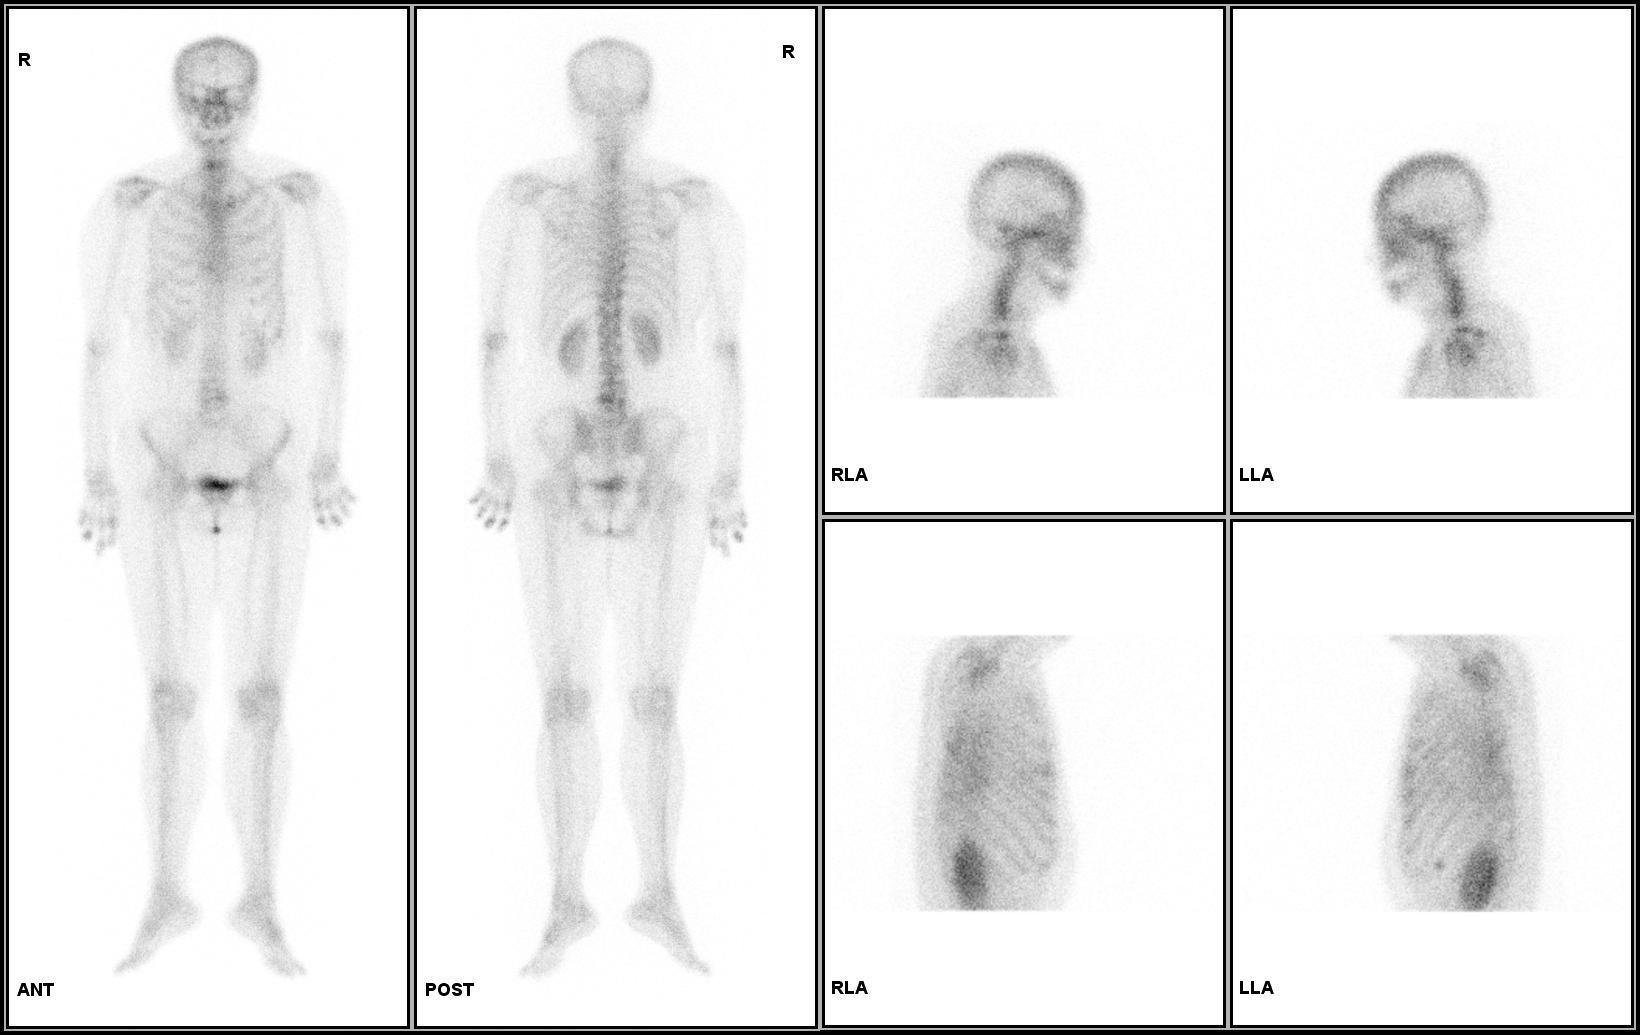person: (7, 5, 818, 1029)
